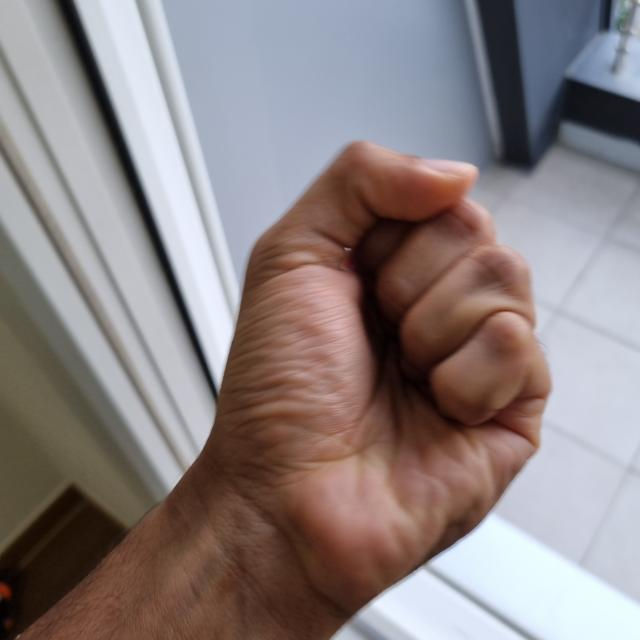Rock: (176, 144, 550, 630)
